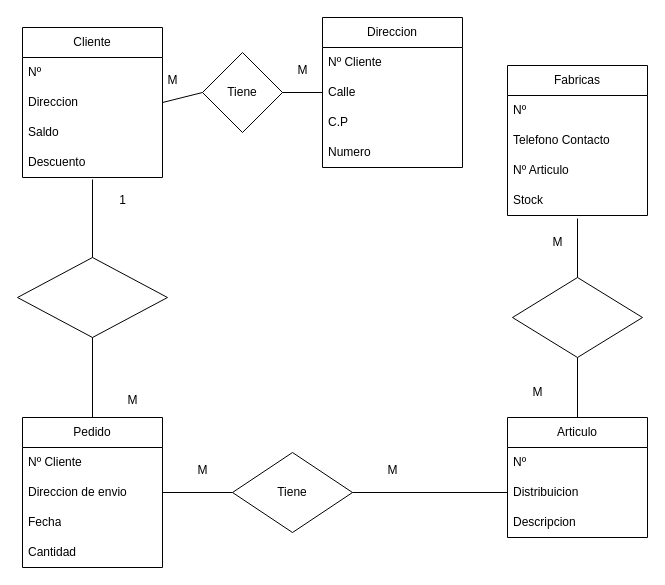
The diagram is 665 pixels wide and 585 high, and some of its shapes have lost their labels. Here are the shapes that lost their labels. From the top down, the centre of each, then its label:
At [92,297]: "Hace".
At [577,317]: "Vienen".
